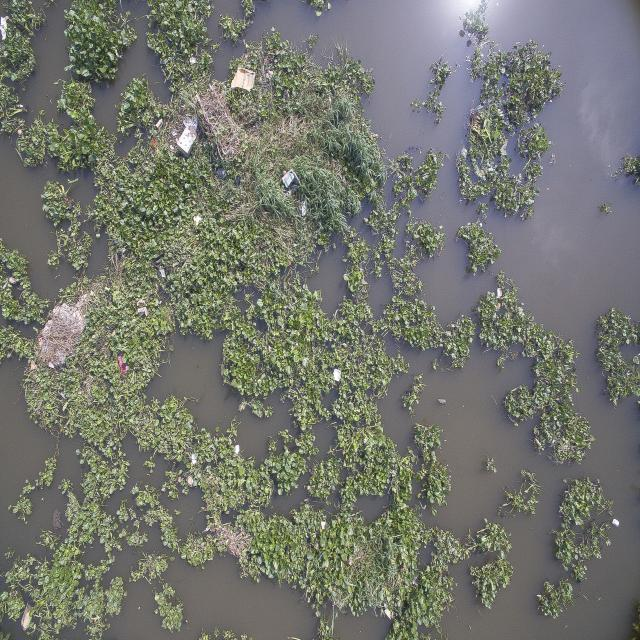debris: (196, 88, 240, 155), (42, 311, 83, 358), (232, 66, 255, 91), (177, 130, 197, 156), (284, 168, 300, 189), (116, 352, 130, 376), (21, 606, 35, 630), (0, 13, 9, 40), (382, 605, 393, 621), (52, 511, 62, 528), (332, 367, 342, 382), (192, 216, 204, 227), (190, 452, 200, 464), (16, 102, 27, 112), (319, 519, 328, 531), (611, 518, 621, 528), (190, 55, 199, 66), (495, 286, 503, 297), (234, 444, 242, 454)
plastic: (154, 115, 167, 129), (418, 190, 428, 207), (301, 203, 310, 215), (158, 268, 168, 278)
